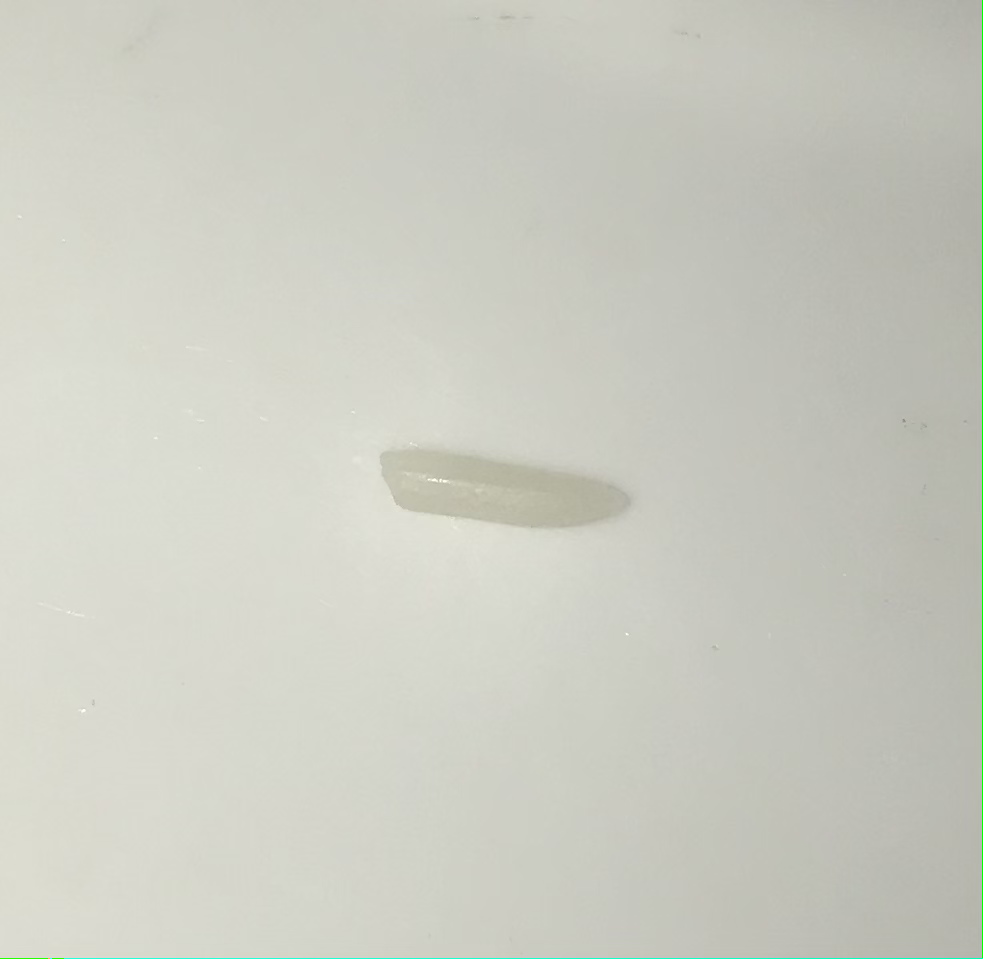Gao Ngoc Troi: (371, 433, 639, 556)
